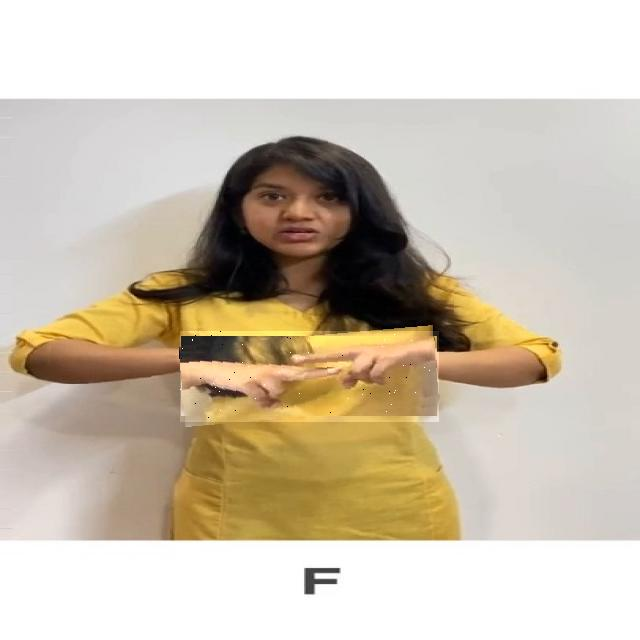F: (180, 331, 439, 422)
